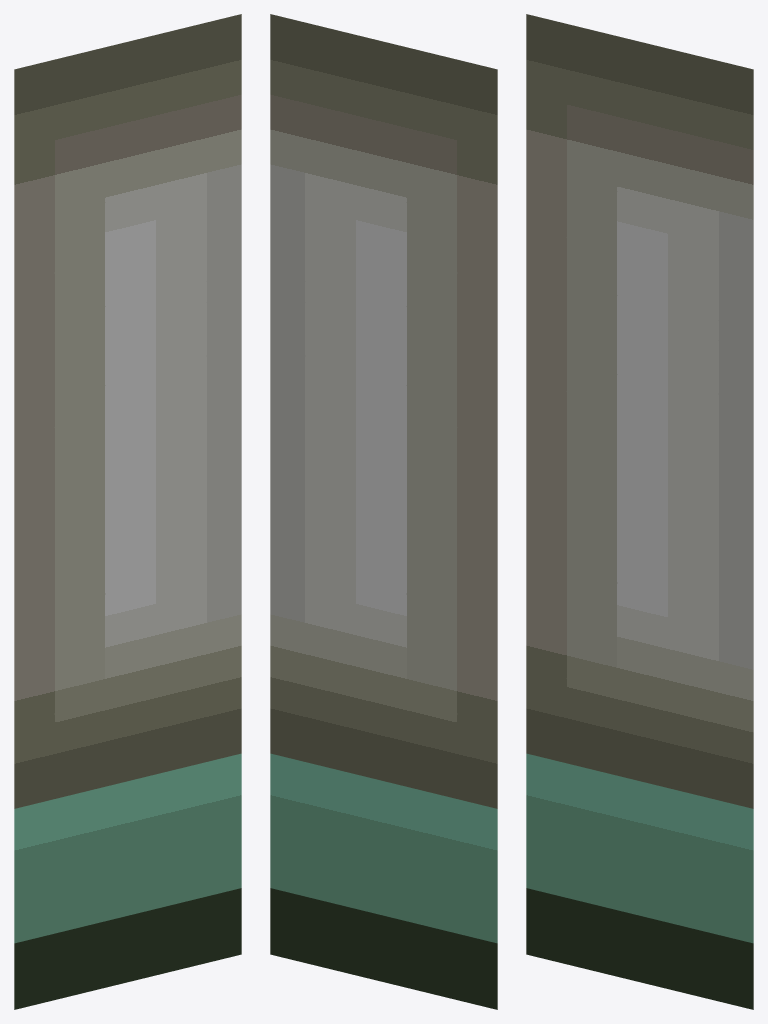
3 views of the same model, side by side, from view 1: azimuth 30°, elevation 25°; view 2: azimuth 150°, elevation 25°; view 3: azimuth 330°, elevation 25° (orthographic).
Size of the model in its own units: 0.7578 by 3 by 0.
1 material, 1 textured.
